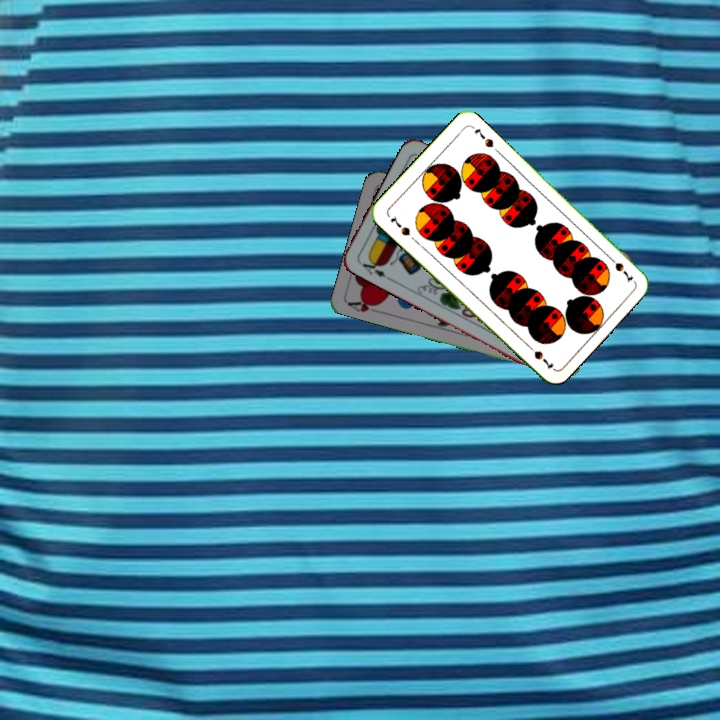EA: (356, 254, 393, 283)
HA: (344, 295, 385, 316)
S7: (604, 252, 636, 285), (386, 212, 413, 238)
